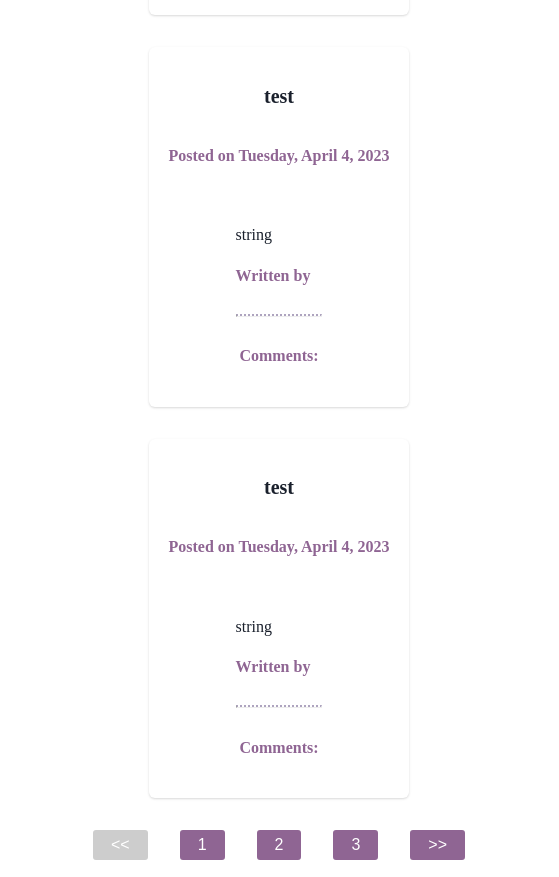
Test: Posts › with 25 posts › should render pagination buttons correctly when on third page
The width and height of the screenshot is (559, 877).
(page scrolled)
Click the button "3" at (356, 845), box [334,830,378,860]
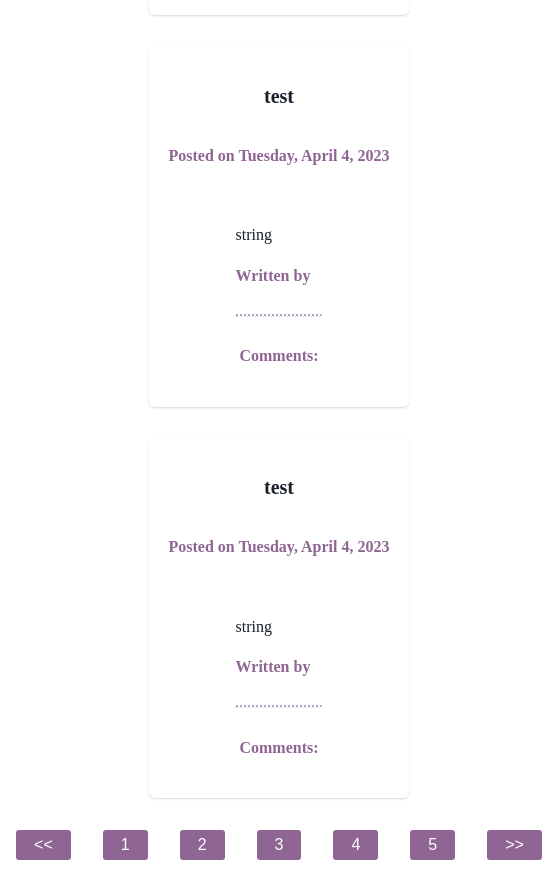
Expected: the button with test id "pagination-next" is enabled, [487,830,542,860]
Expected: the number of buttons with test id "pagination-number" is 5, [103,830,148,860]; [180,830,224,860]; [256,830,301,860]; [334,830,378,860]; [410,830,455,860]
Expected: the button with test id "pagination-previous" is enabled, [16,830,71,860]
